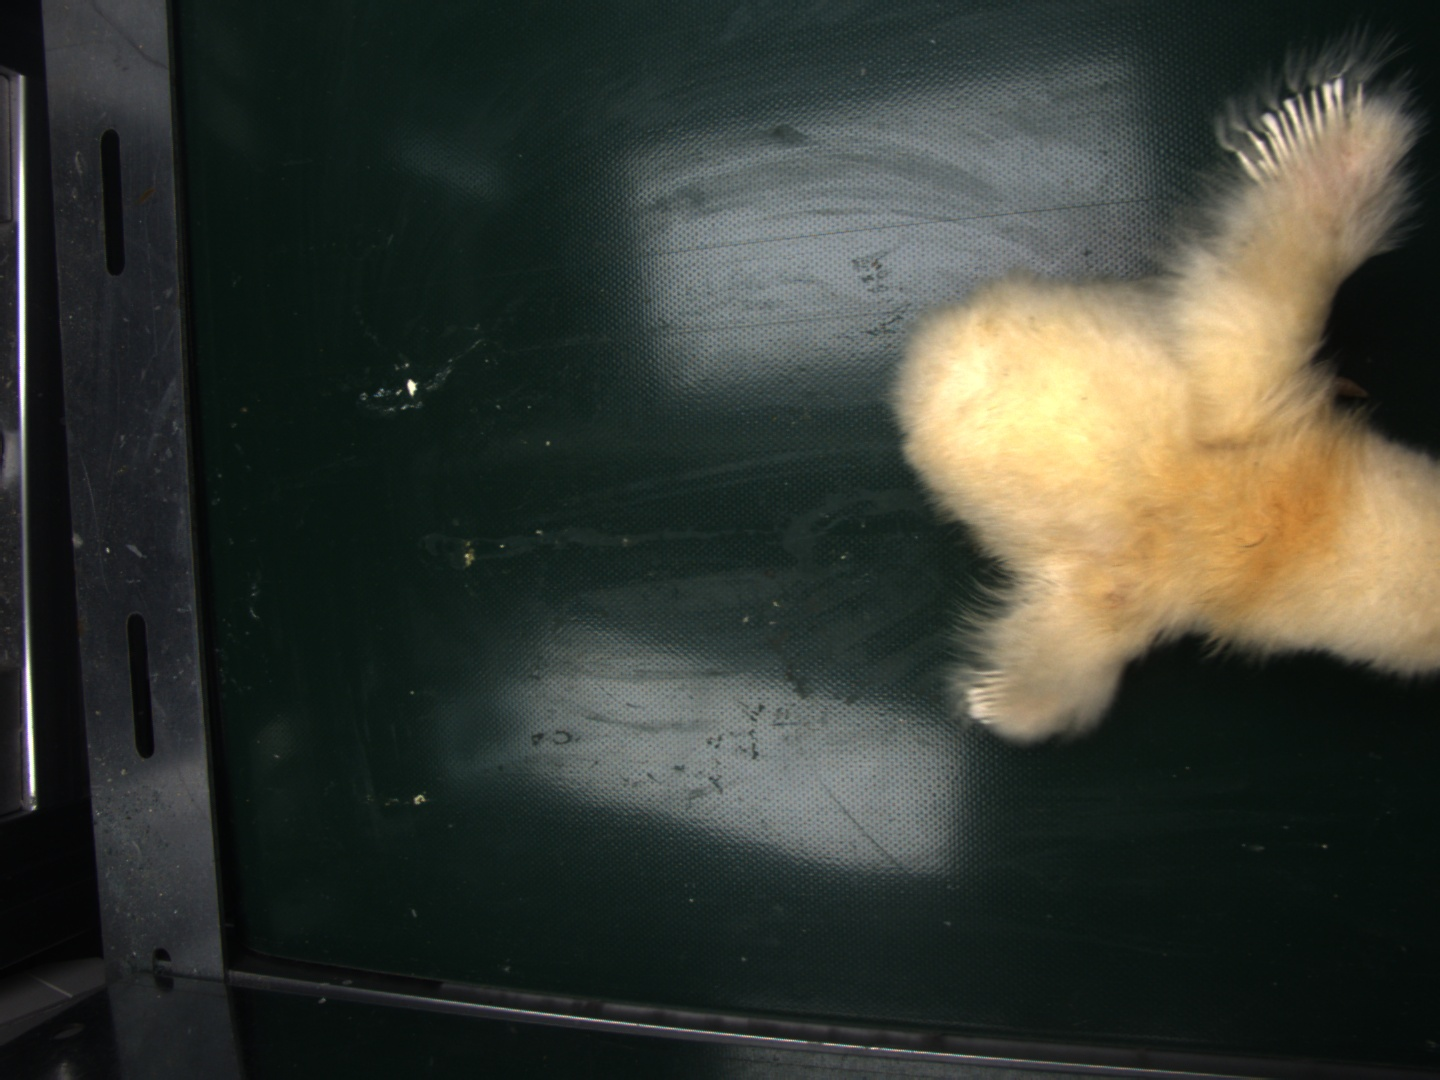male: (1233, 68, 1352, 188)
